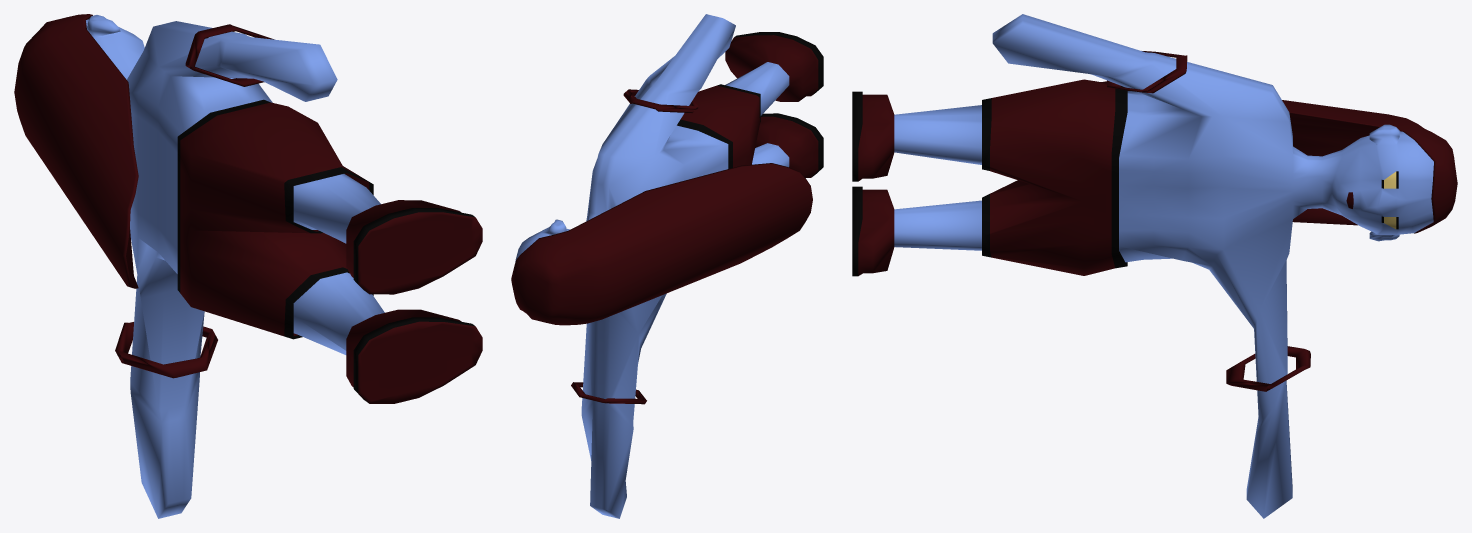
Rendered from Direction.fbx.
3 renders of one model, left to right at view 1: azimuth 30°, elevation 25°; view 2: azimuth 150°, elevation 25°; view 3: azimuth 270°, elevation 25°, orthographic. The views are drawn at different scales.
Parts seen in each view (by area): view 1: Char normal.001; view 2: Char normal.001; view 3: Char normal.001.
Part boxes in pixels (x1=…): Char normal.001: x1=14, y1=14, x2=482, y2=518; Char normal.001: x1=511, y1=14, x2=823, y2=518; Char normal.001: x1=852, y1=14, x2=1457, y2=518.
Bounding box in the file's own units: 0.7007 × 1.8 × 1.63.
